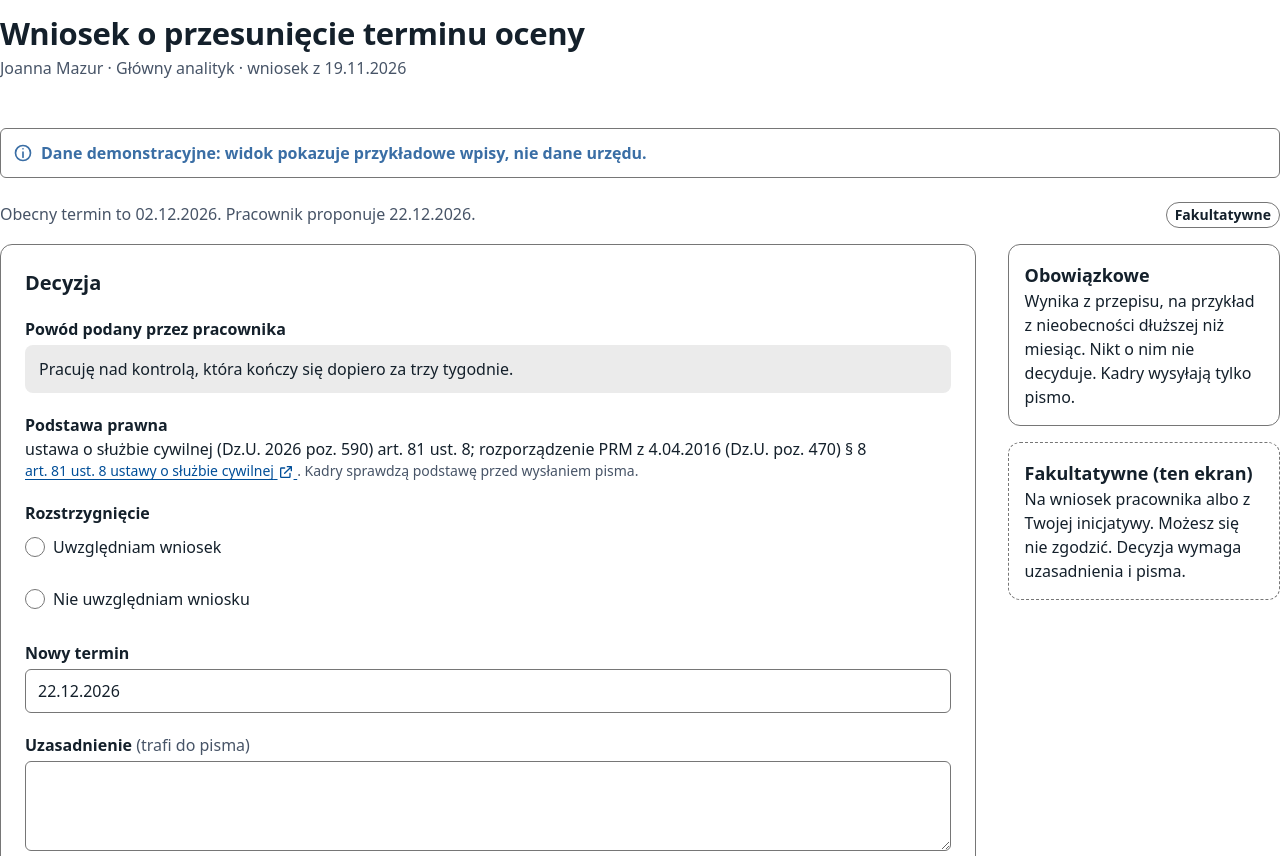
Test case: DeadlineShiftPage › requires a new date after the current one when accepting
Click the radio button labelled "Uwzględniam wniosek": (35, 547) [25,537,45,557]
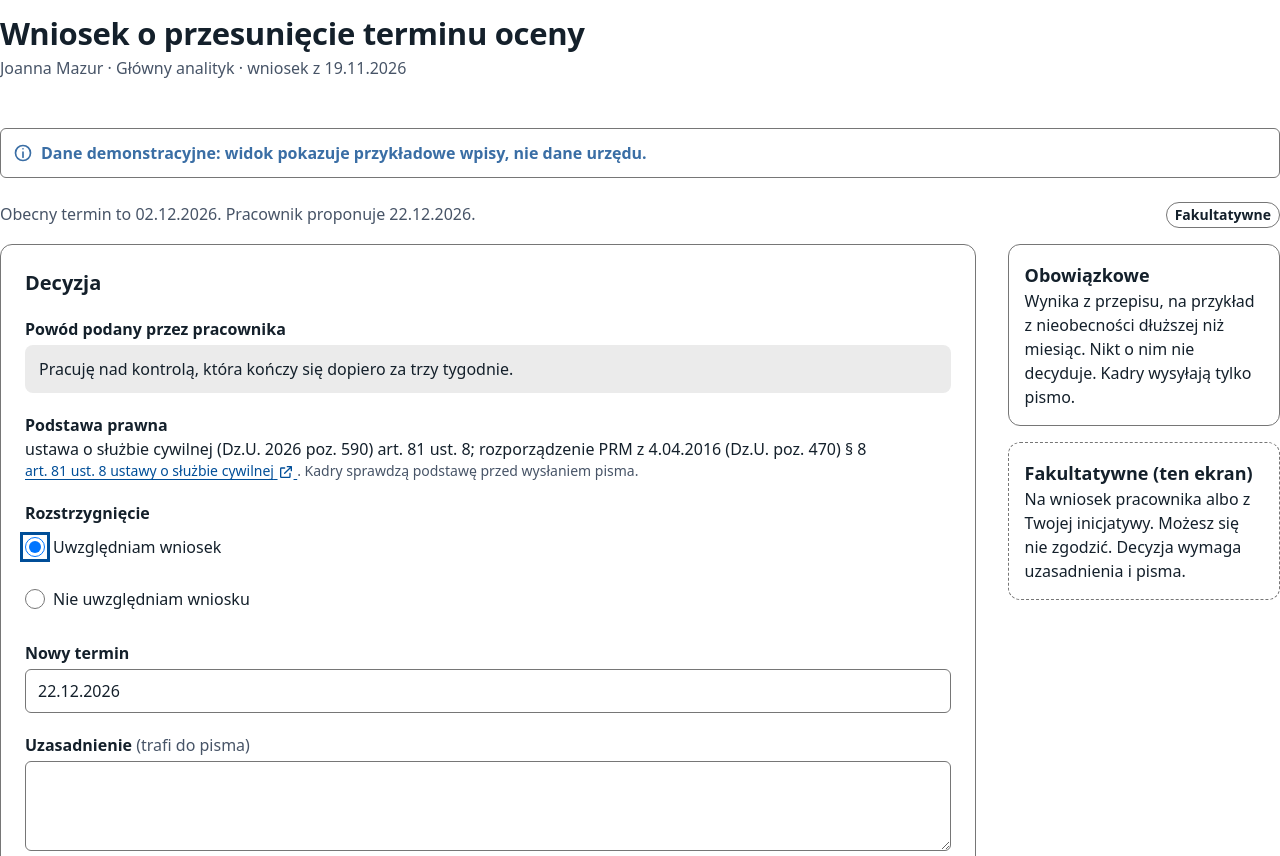
Clear the field labelled "Nowy termin": (488, 691) [25,669,951,713]
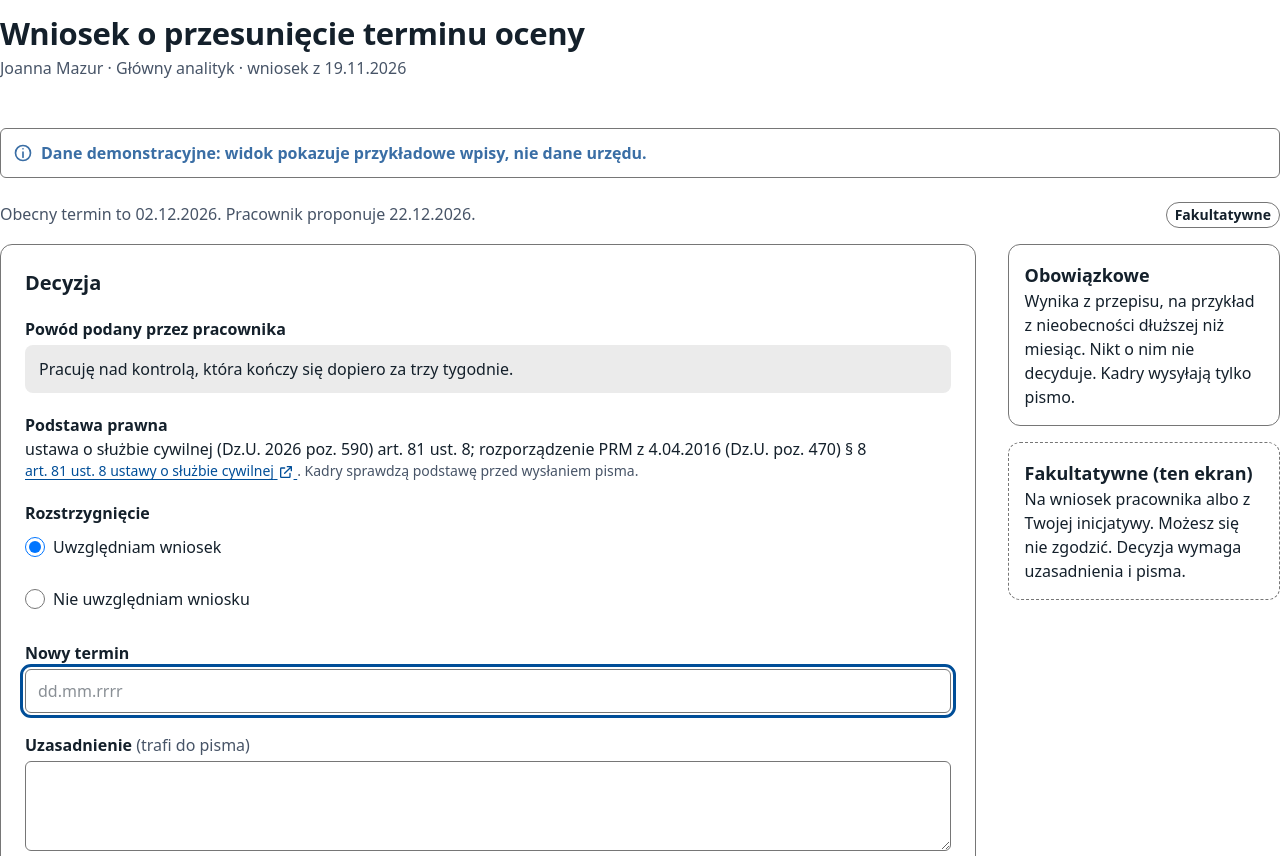
In the text box labelled "Uzasadnienie (trafi do pisma)": (488, 806) [25,761,951,851], type "Zgoda."
(page scrolled)
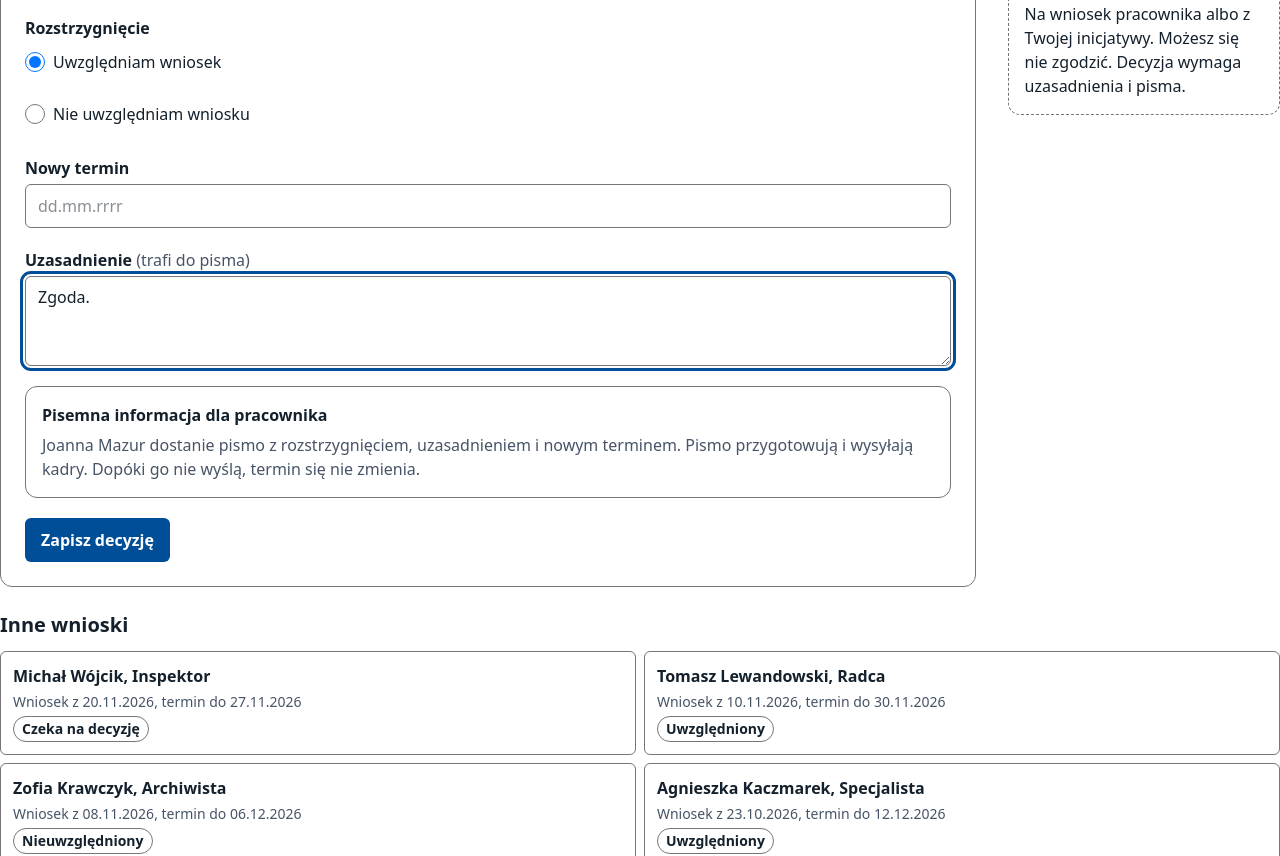
Click the button named "Zapisz decyzję i przekaż do kadr": (97, 540) [25,518,170,562]
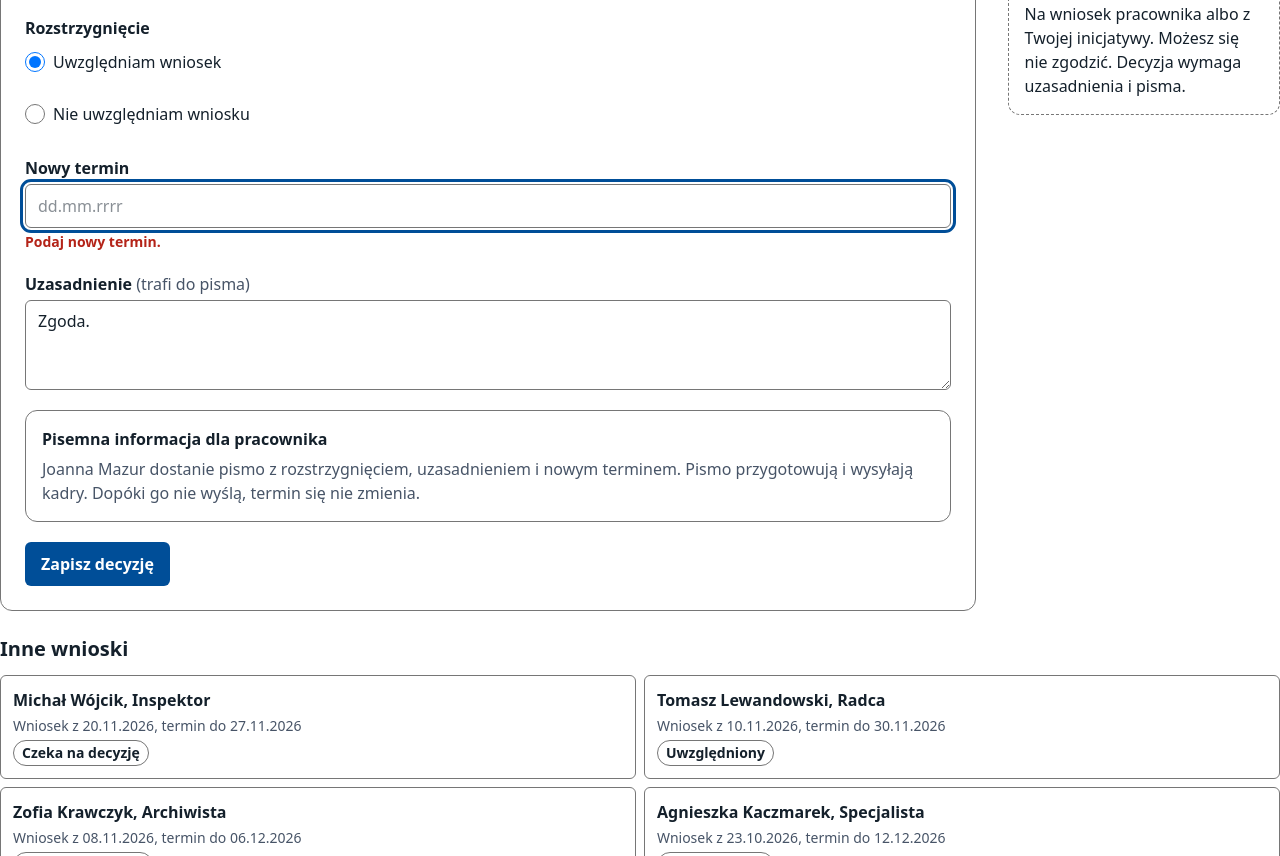
Expected: the text "Podaj nowy termin." is shown, [25,232,161,251]
